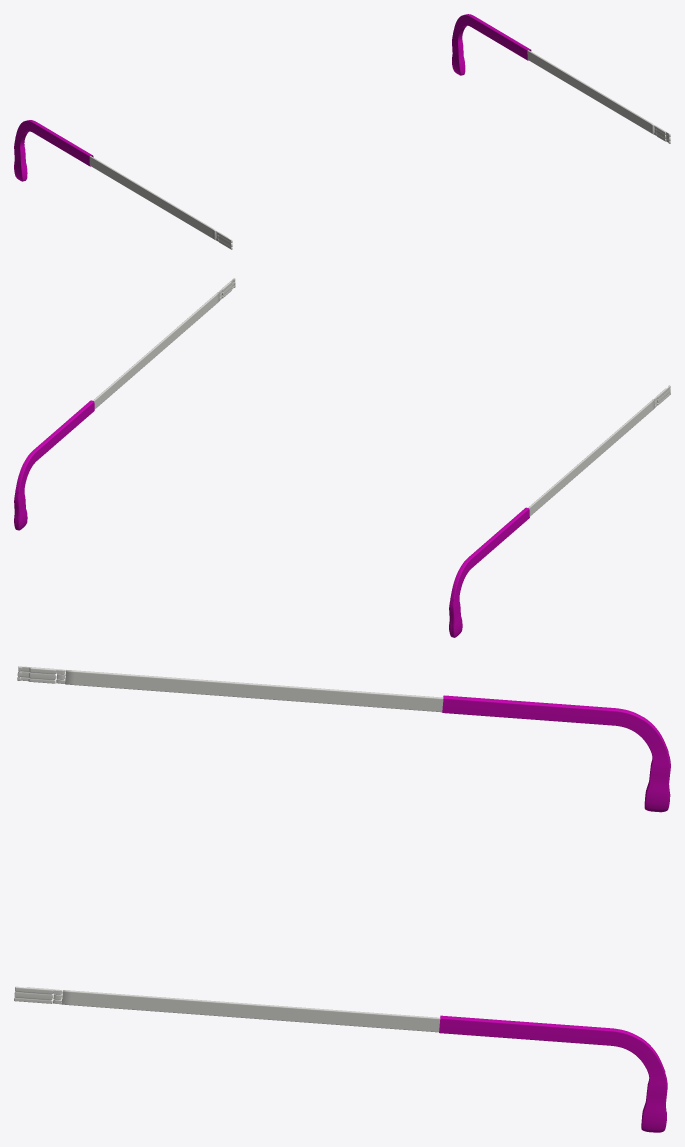
Rendered from custom-temple-tips-3.gltf.
3 views of the same model, one above another, from view 1: azimuth 30°, elevation 25°; view 2: azimuth 150°, elevation 25°; view 3: azimuth 270°, elevation 25° (orthographic). The views are drawn at different scales.
Parts seen in each view (by area): view 1: Cube.001, Cube.002; view 2: Cube.002, Cube.001; view 3: Cube.001, Cube.002.
Part boxes in pixels (x1,y1,x2,y2): Cube.001: [89, 50, 670, 249]; Cube.002: [14, 14, 531, 181]; Cube.002: [14, 400, 529, 637]; Cube.001: [93, 278, 670, 516]; Cube.001: [14, 666, 443, 1032]; Cube.002: [439, 695, 670, 1132].
Size of the model in its own units: 0.9923 by 0.2049 by 0.849.
